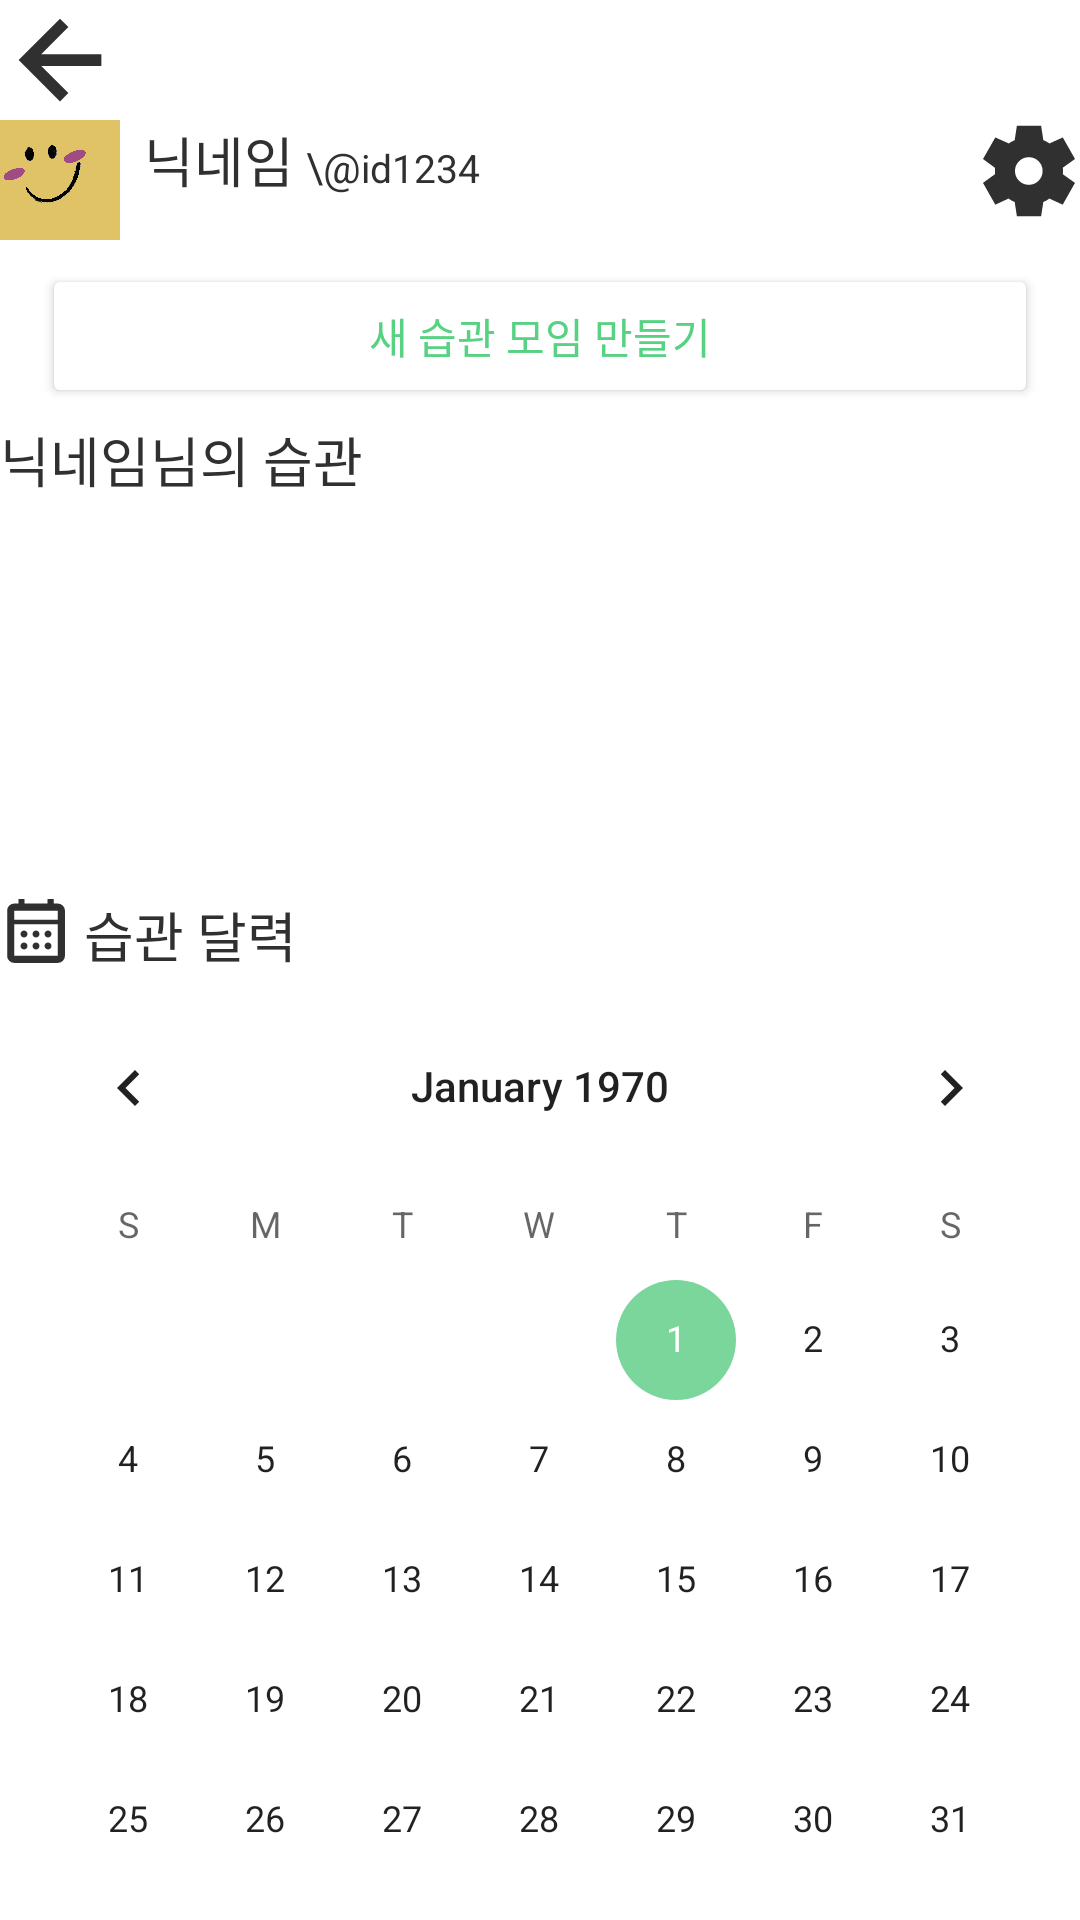

Icons on this 1080px x 1920px Android screen, each with its box as bbox(x1, y1, x2, y2):
arrow back: bbox(19, 19, 102, 102)
blush: bbox(0, 120, 120, 240)
calendar month: bbox(7, 899, 65, 963)
settings: bbox(983, 125, 1075, 217)
